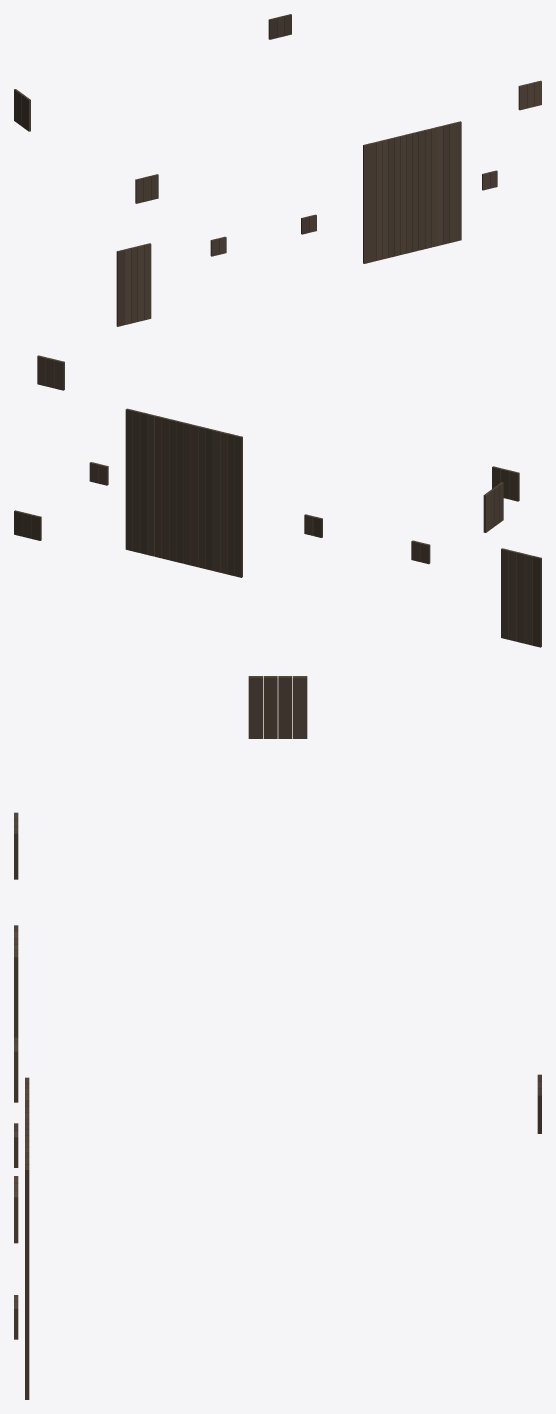
The model's file is SM_Bld_010_Wood.glb.
The picture shows the model from 3 angles, top to bottom: view 1: azimuth 30°, elevation 25°; view 2: azimuth 150°, elevation 25°; view 3: azimuth 270°, elevation 25°; orthographic projection. The views are drawn at different scales.
Parts seen in each view (by area): view 1: SM_Bld_010_Wood; view 2: SM_Bld_010_Wood; view 3: SM_Bld_010_Wood.
Part boxes in pixels (left/top/right/bottom): SM_Bld_010_Wood: left=14, top=14, right=541, bottom=326; SM_Bld_010_Wood: left=14, top=355, right=541, bottom=647; SM_Bld_010_Wood: left=14, top=676, right=541, bottom=1399.
Bounding box in the file's own units: 12.02 × 4.81 × 6.25.
